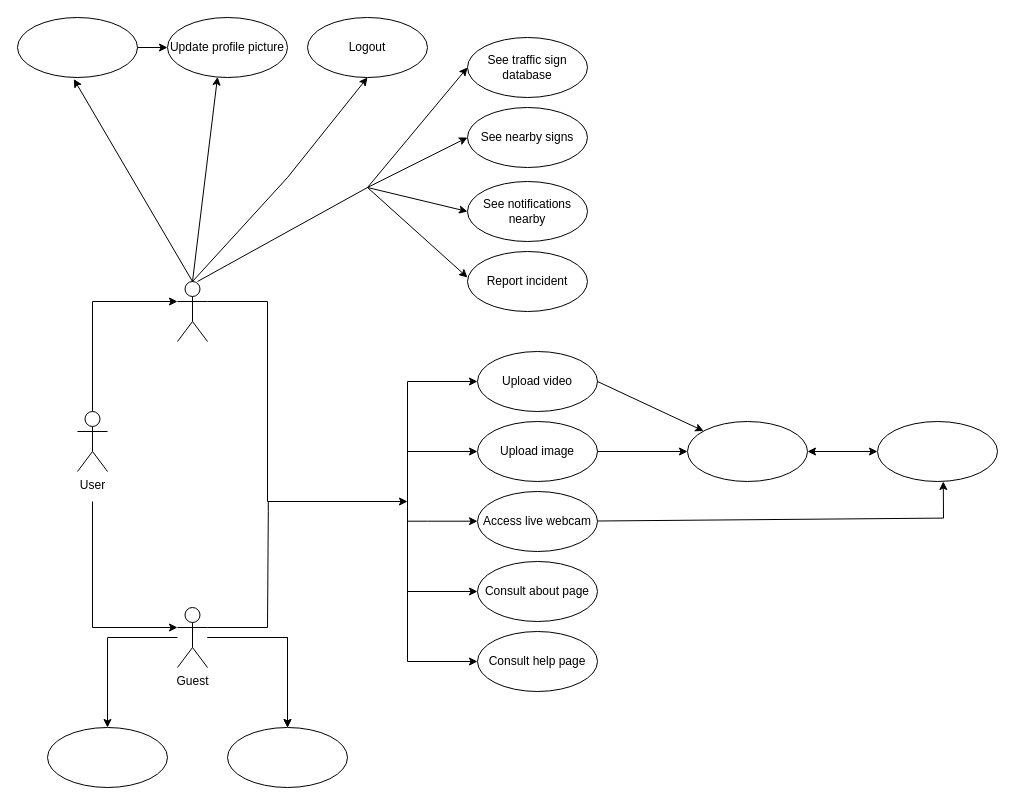
Image size: 1015x805. Some labels were removed from this diagram. The box of each missing label's shape, as (x1, y1, x2, y2) in pixels:
Authenticated: (176, 280, 208, 342)
Get Detected Information: (876, 420, 998, 482)
Login: (46, 726, 168, 788)
Register: (226, 726, 348, 788)
See image/video with detected traffic signs: (686, 420, 808, 482)
See user profile: (16, 16, 138, 78)
